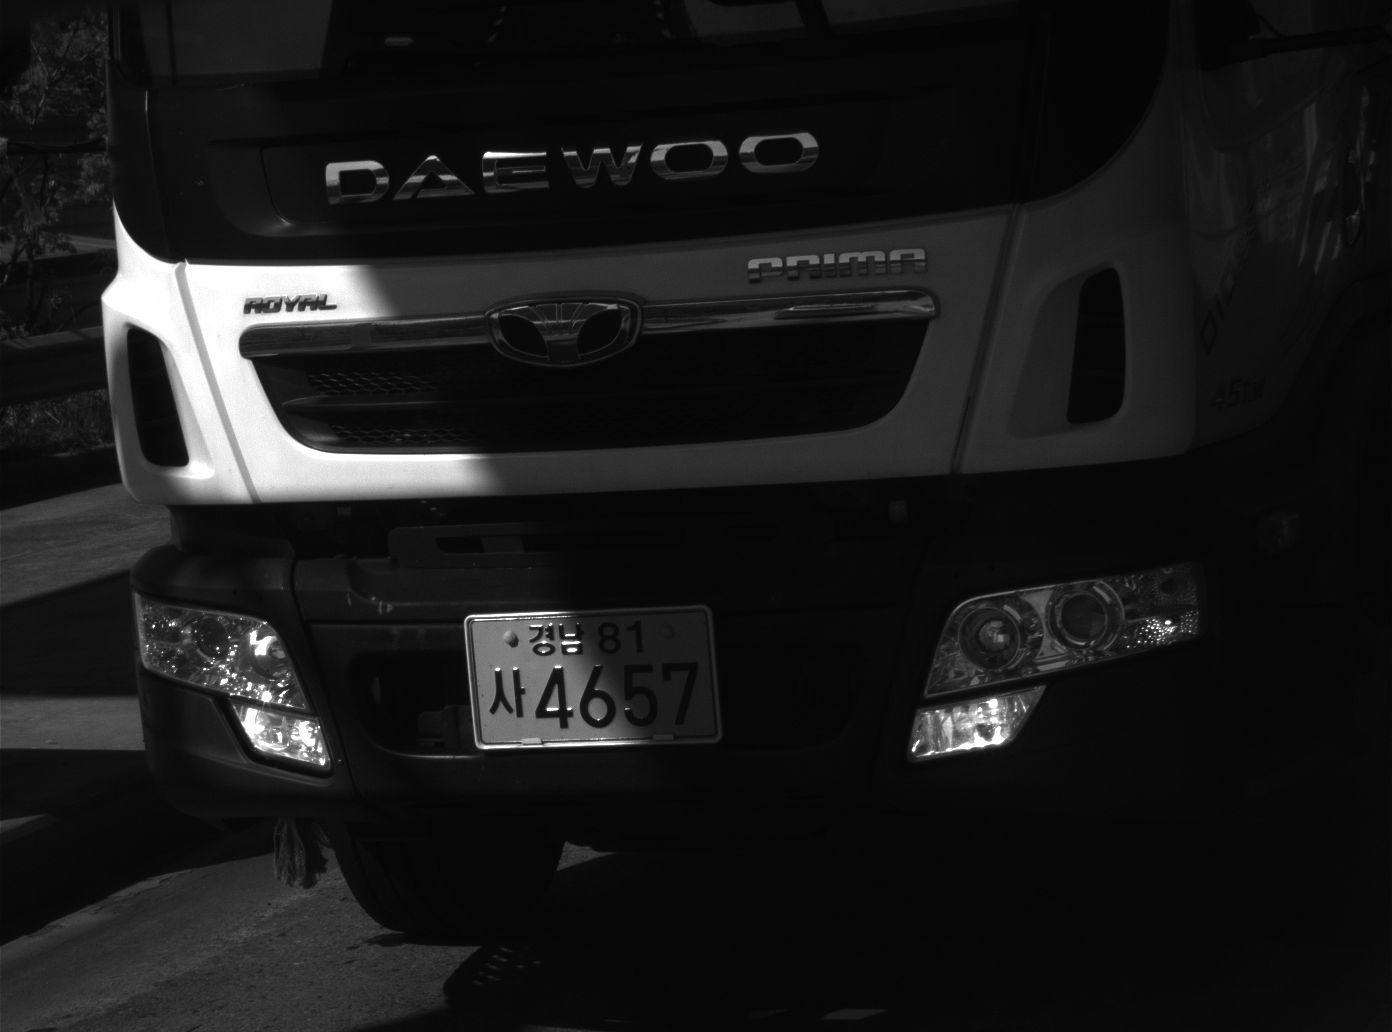car: (87, 1, 1392, 932)
plate: (461, 607, 722, 746)
